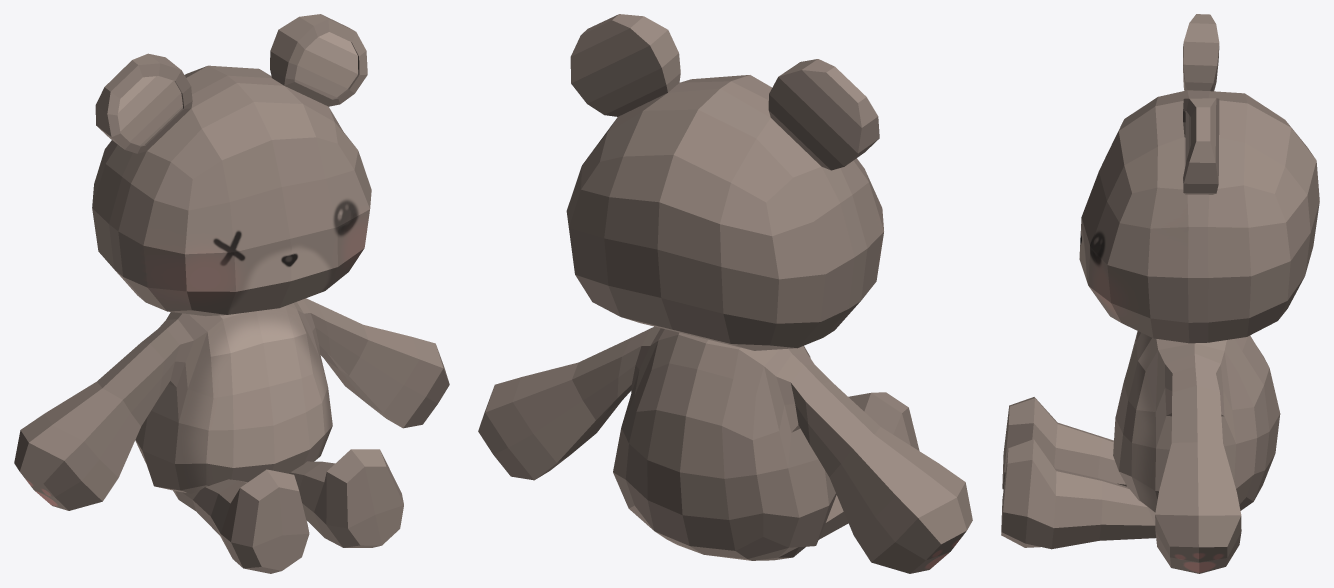
File: Doll1 Sitting.fbx
3 views of the same model, side by side, from view 1: azimuth 30°, elevation 25°; view 2: azimuth 150°, elevation 25°; view 3: azimuth 270°, elevation 25° (orthographic). The views are drawn at different scales.
Visible parts, largest first — view 1: Cube.001; view 2: Cube.001; view 3: Cube.001.
Part boxes in pixels (x1,y1,x2,y2): Cube.001: [14, 14, 449, 573]; Cube.001: [478, 14, 972, 573]; Cube.001: [1001, 14, 1319, 573].
Size of the model in its own units: 318 by 329 by 205.
1 material, 1 textured.
